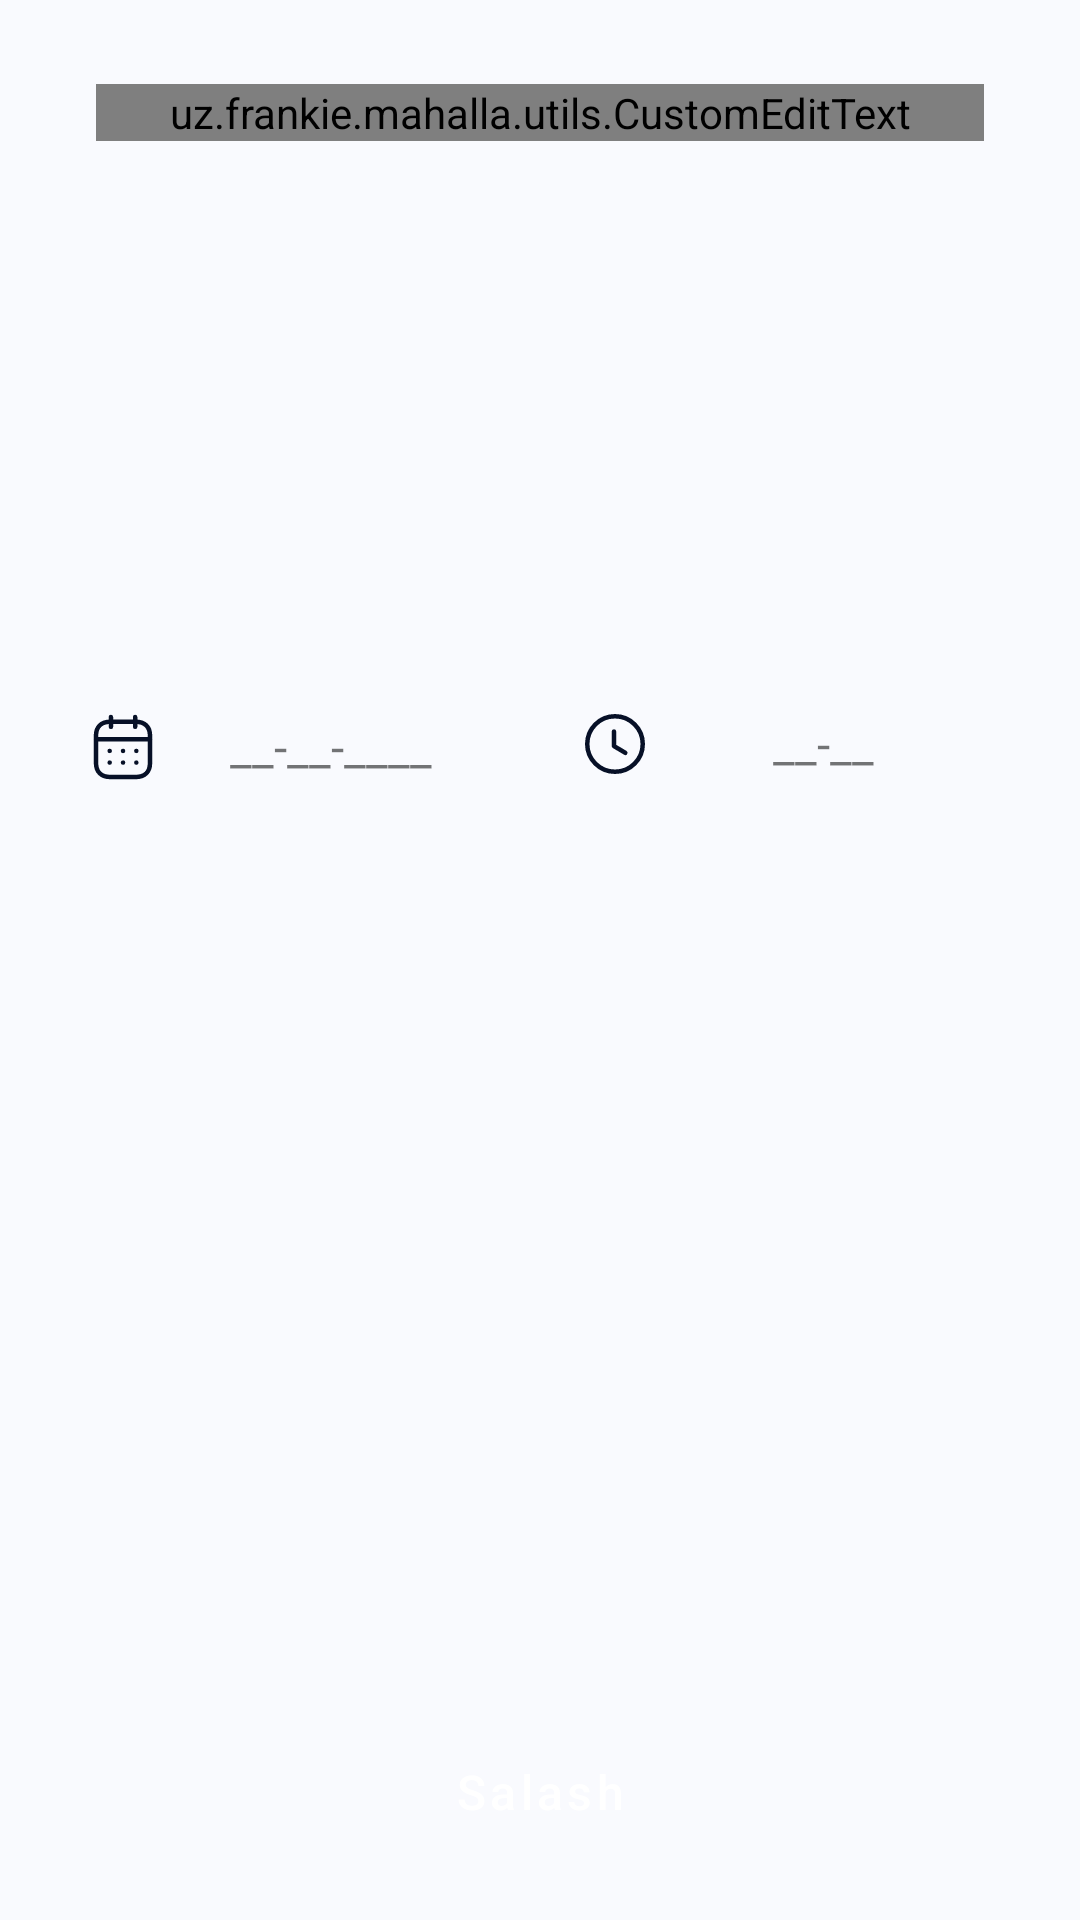

Icon bounding boxes for this 1080 × 1920 phone screenshot, format [x1=x1, y1=y1, x2=x2, y2=y2]:
calendar: [x1=93, y1=714, x2=153, y2=780]
time: [x1=585, y1=714, x2=645, y2=774]
